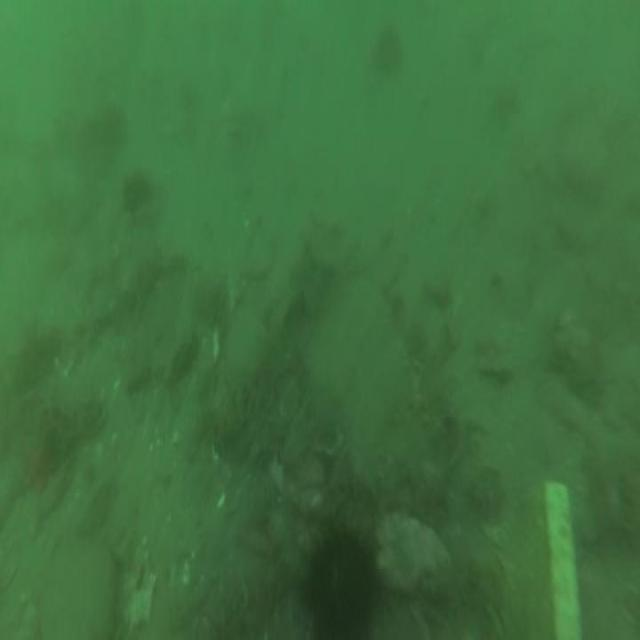echinus: (299, 512, 382, 640), (368, 24, 407, 79), (121, 172, 155, 220)
holothurian: (491, 474, 550, 640)
